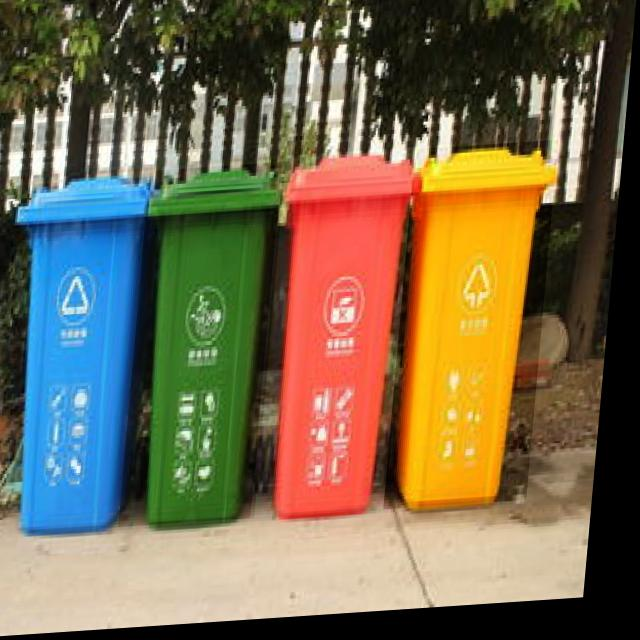garbage_bin: (393, 148, 562, 516), (264, 153, 427, 522), (128, 166, 285, 530), (0, 175, 157, 534)
